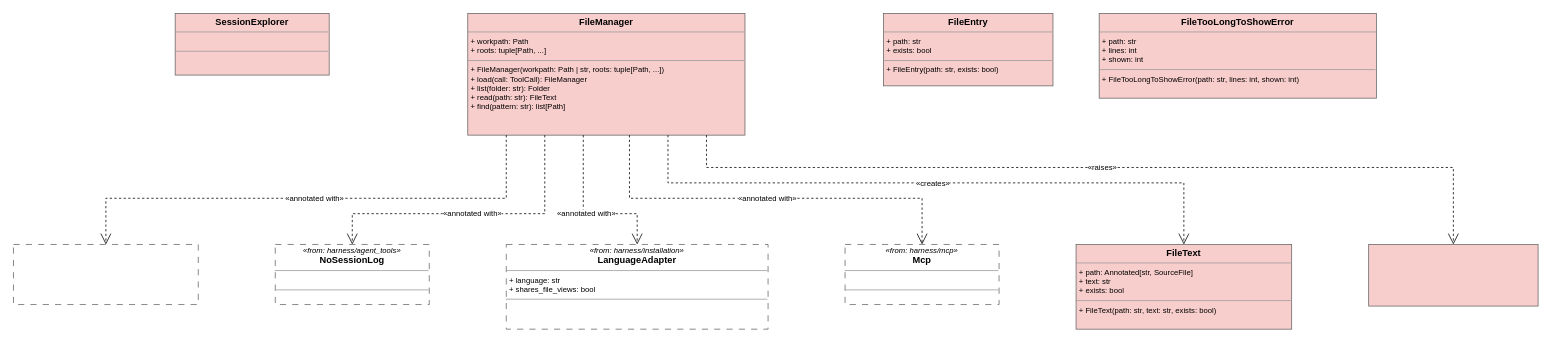
Some shapes in this 1552 by 343 pixel diagram are drawn without their labels. The shapes that lost their labels are listed below. From the top down, each one's centre as x and y in pixels, then its label:
(x=105, y=274): «from: harness/agent_tools» AgentToolSetAnnotation
(x=1453, y=275): PathOutsideRootsError + PathOutsideRootsError(path: str)
